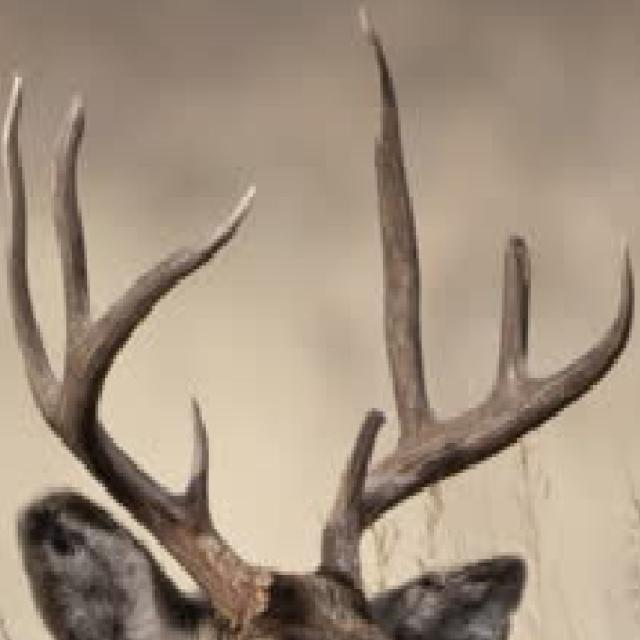L-F: (317, 240, 635, 598)
L-G1: (324, 405, 387, 528)
L-G2: (357, 4, 440, 446)
L-G3: (494, 232, 532, 390)
R-F: (58, 183, 274, 621)
R-G1: (184, 395, 209, 514)
R-G2: (2, 74, 64, 438)
R-G3: (51, 91, 92, 382)
